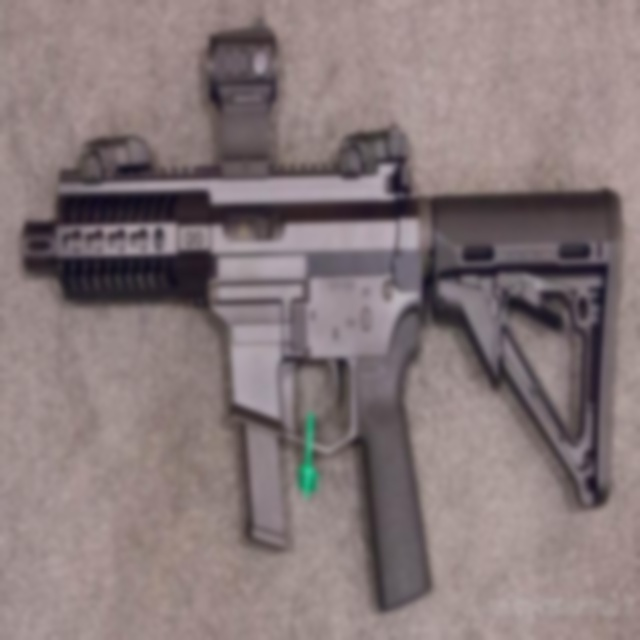gun: (18, 14, 626, 605)
